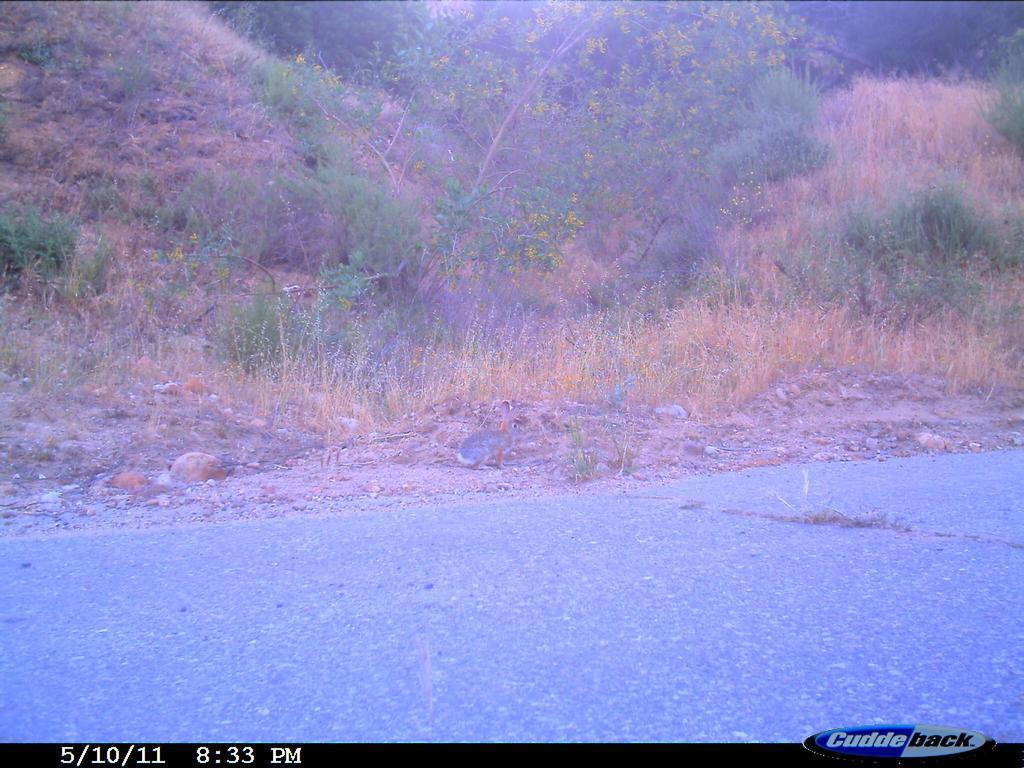rabbit: (454, 397, 532, 478)
